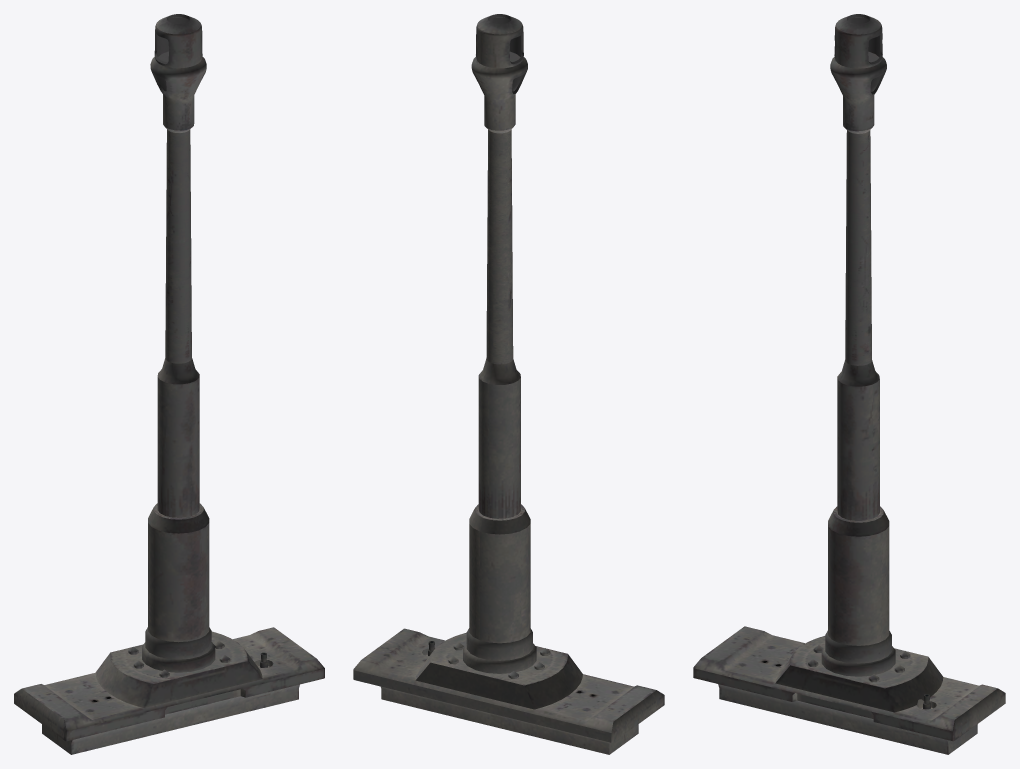
Rendered from Gun_03.glb.
3 renders of one model, left to right at view 1: azimuth 30°, elevation 25°; view 2: azimuth 150°, elevation 25°; view 3: azimuth 330°, elevation 25°, orthographic.
Parts seen in each view (by area): view 1: set_0_group_0; view 2: set_0_group_0; view 3: set_0_group_0.
Boxes of the visible parts, box(x1,y1,x2,y2) form: set_0_group_0: box(14, 14, 324, 754); set_0_group_0: box(353, 14, 664, 754); set_0_group_0: box(693, 14, 1005, 754).
Size of the model in its own units: 1.6 by 4.09 by 0.5606.
Materials: 1 (1 with a texture image).
